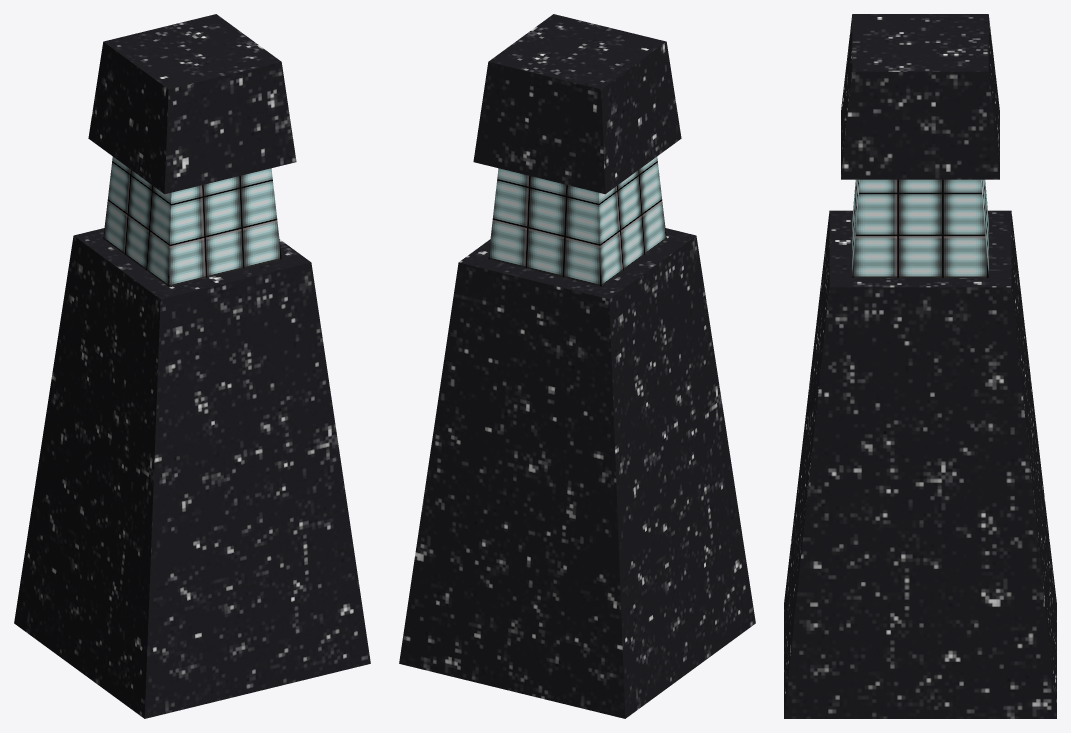
The model's file is lamp.fbx.
3 views of the same model, side by side, from view 1: azimuth 30°, elevation 25°; view 2: azimuth 150°, elevation 25°; view 3: azimuth 270°, elevation 25° (orthographic). The views are drawn at different scales.
Parts seen in each view (by area): view 1: Lamp; view 2: Lamp; view 3: Lamp.
Part boxes in pixels (x1,y1,x2,y2): Lamp: (14, 14, 370, 718); Lamp: (399, 14, 755, 718); Lamp: (784, 14, 1056, 718).
Bounding box in the file's own units: 68.66 × 172 × 68.66.
2 materials, 2 textured.
